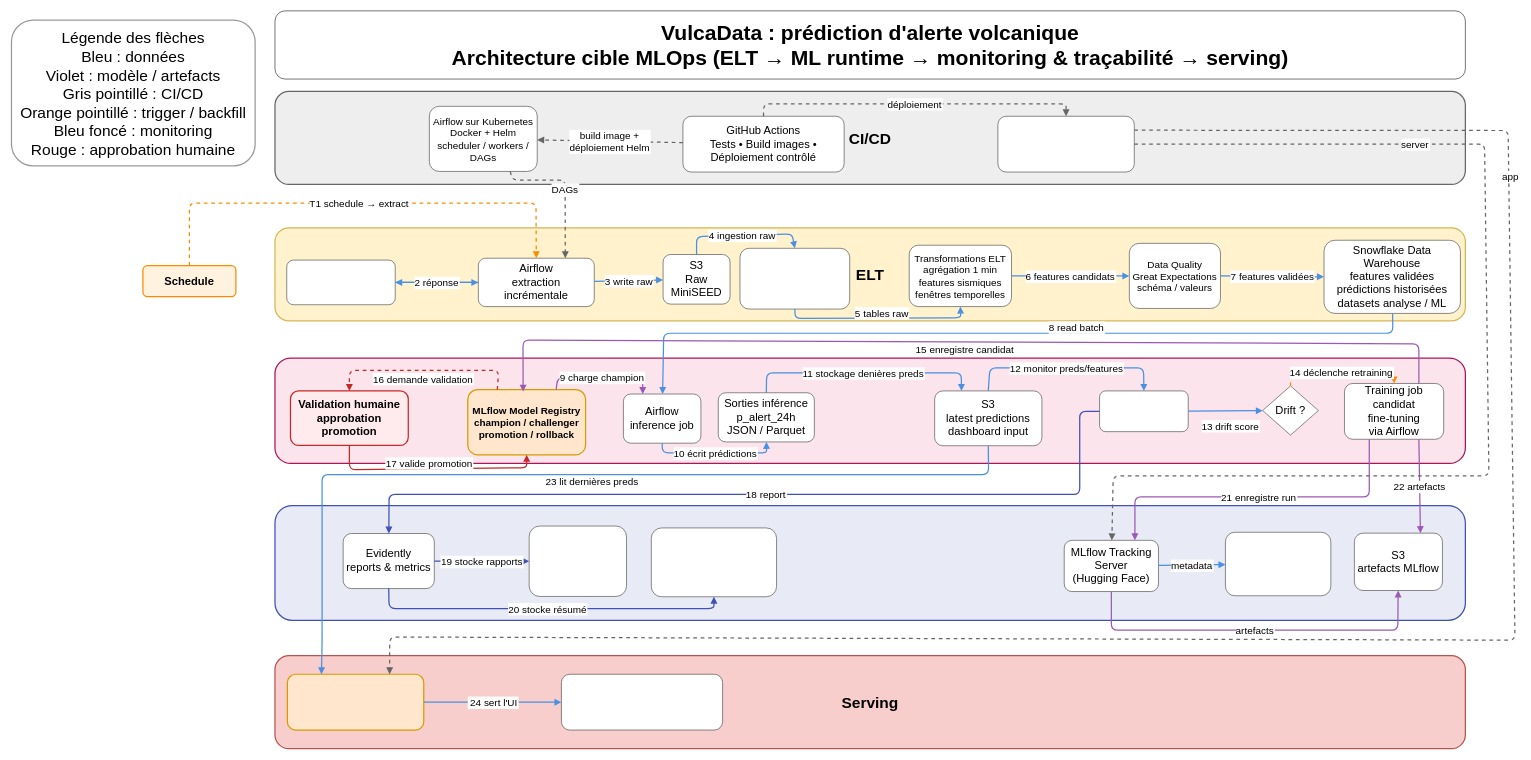
The diagram is 1531 pixels wide and 760 high, and some of its shapes have lost their labels. Each missing label, with the box of its shape:
API Observatoire Piton de la Fournaise: (286, 259, 395, 305)
Dashboard Streamlit visualisation: (561, 674, 723, 730)
Drift detection (Evidently): (1099, 390, 1188, 432)
Déploiement Streamlit + MLflow: (997, 116, 1134, 172)
Hugging Face Space Streamlit App: (286, 673, 424, 730)
ML runtime: (274, 357, 1466, 464)
Monitoring & traçabilité: (274, 505, 1466, 621)
Neon PostgreSQL backend store MLflow: (1225, 532, 1331, 596)
S3 rapports Evidently (HTML / JSON): (529, 525, 627, 596)
Snowflake Monitoring métriques Evidently résumés drift: (651, 527, 777, 597)
Snowflake RAW staging / external stage données chargées: (739, 248, 850, 309)
